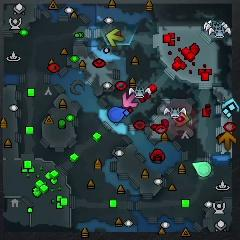p1: (108, 106, 128, 123)
p2: (191, 161, 213, 177)
x1: (122, 91, 138, 108)
x2: (106, 30, 125, 46)
x3: (222, 98, 239, 115)
x5: (218, 132, 236, 151)
